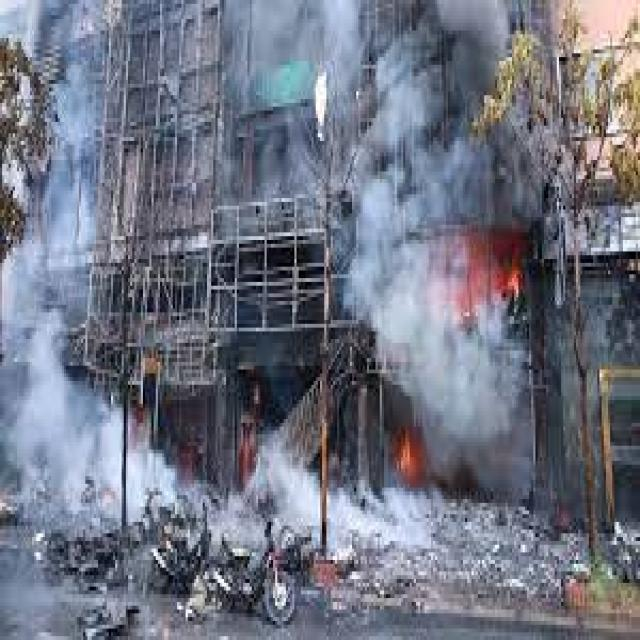fire: (469, 244, 525, 316), (395, 431, 420, 499)
smoke: (220, 4, 554, 480), (2, 312, 173, 518), (4, 3, 96, 308)
